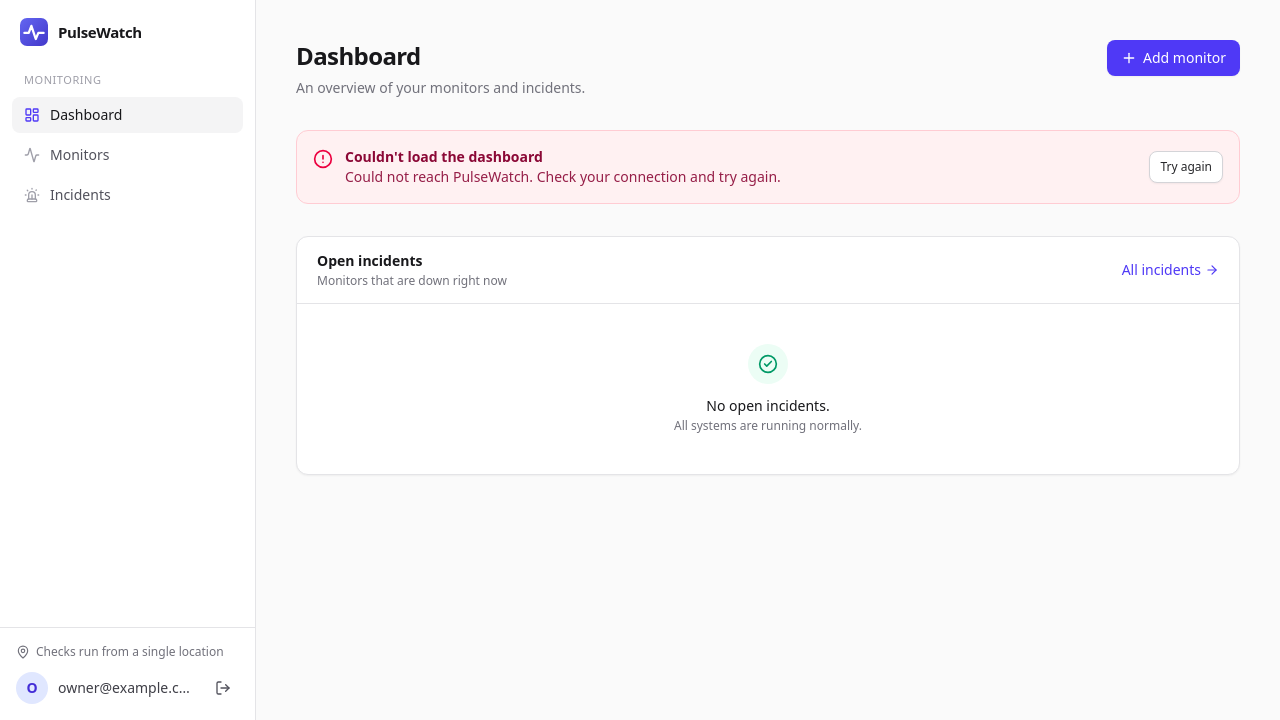
Test: dashboard › shows an error with a retry when the API fails
Expected: the text "Couldn't load the dashboard" is shown, [345, 147, 543, 166]
Click the button "Try again".
click(1186, 167)  # box [1149, 151, 1223, 183]
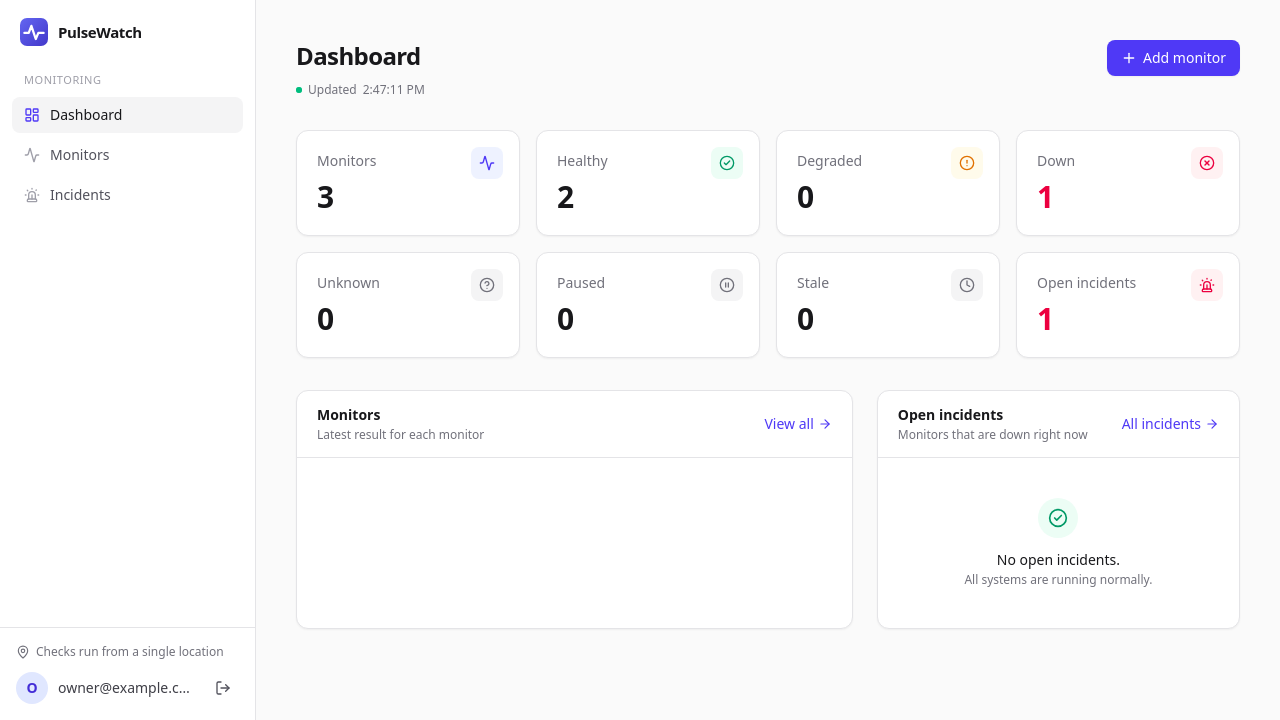
Result: the element named "Summary" is shown at [296, 130, 1240, 358]
